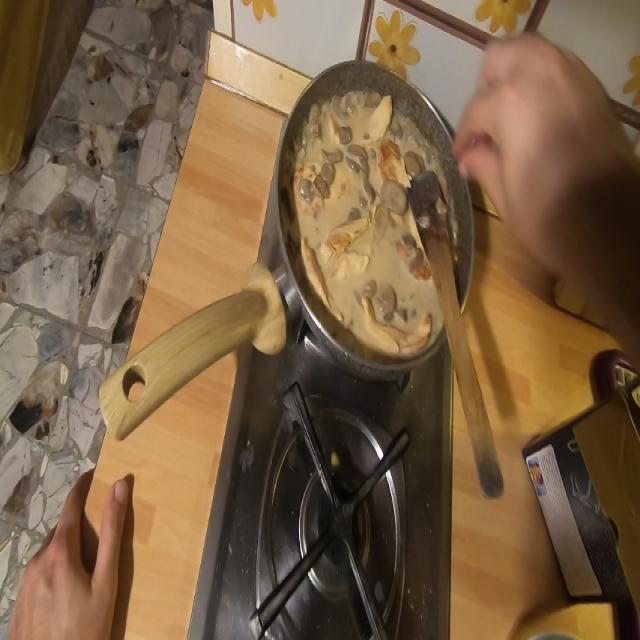hob: (243, 366, 421, 640)
left hand: (18, 462, 128, 640)
pan: (98, 61, 472, 438)
wooden spoon: (409, 172, 510, 518)
